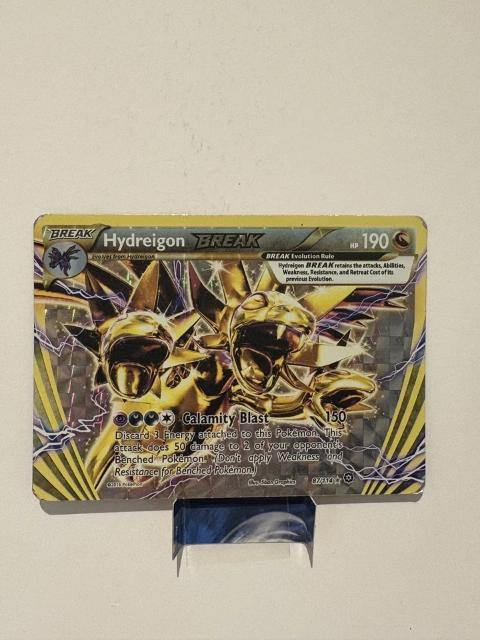Card: (28, 210, 430, 505)
Name: (96, 227, 275, 253)
